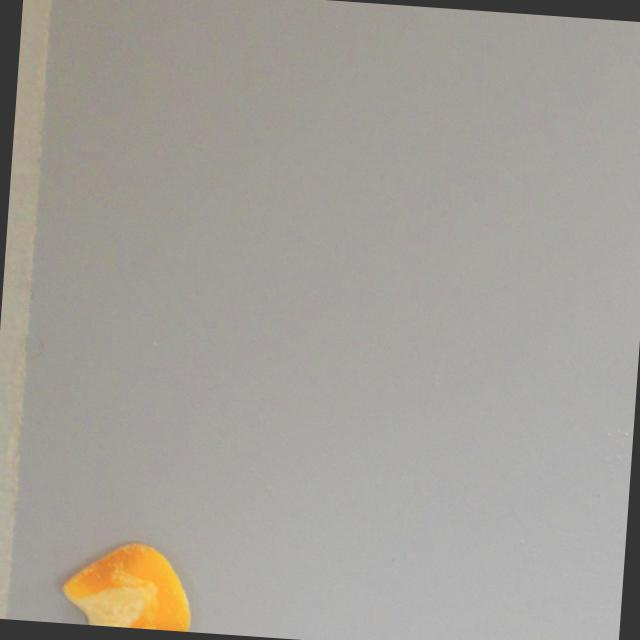pelicula: (58, 538, 200, 632)
